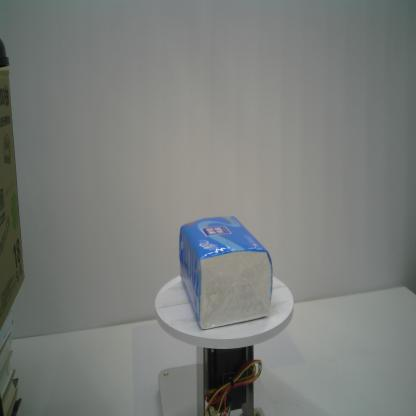Tissue: (176, 212, 274, 331)
